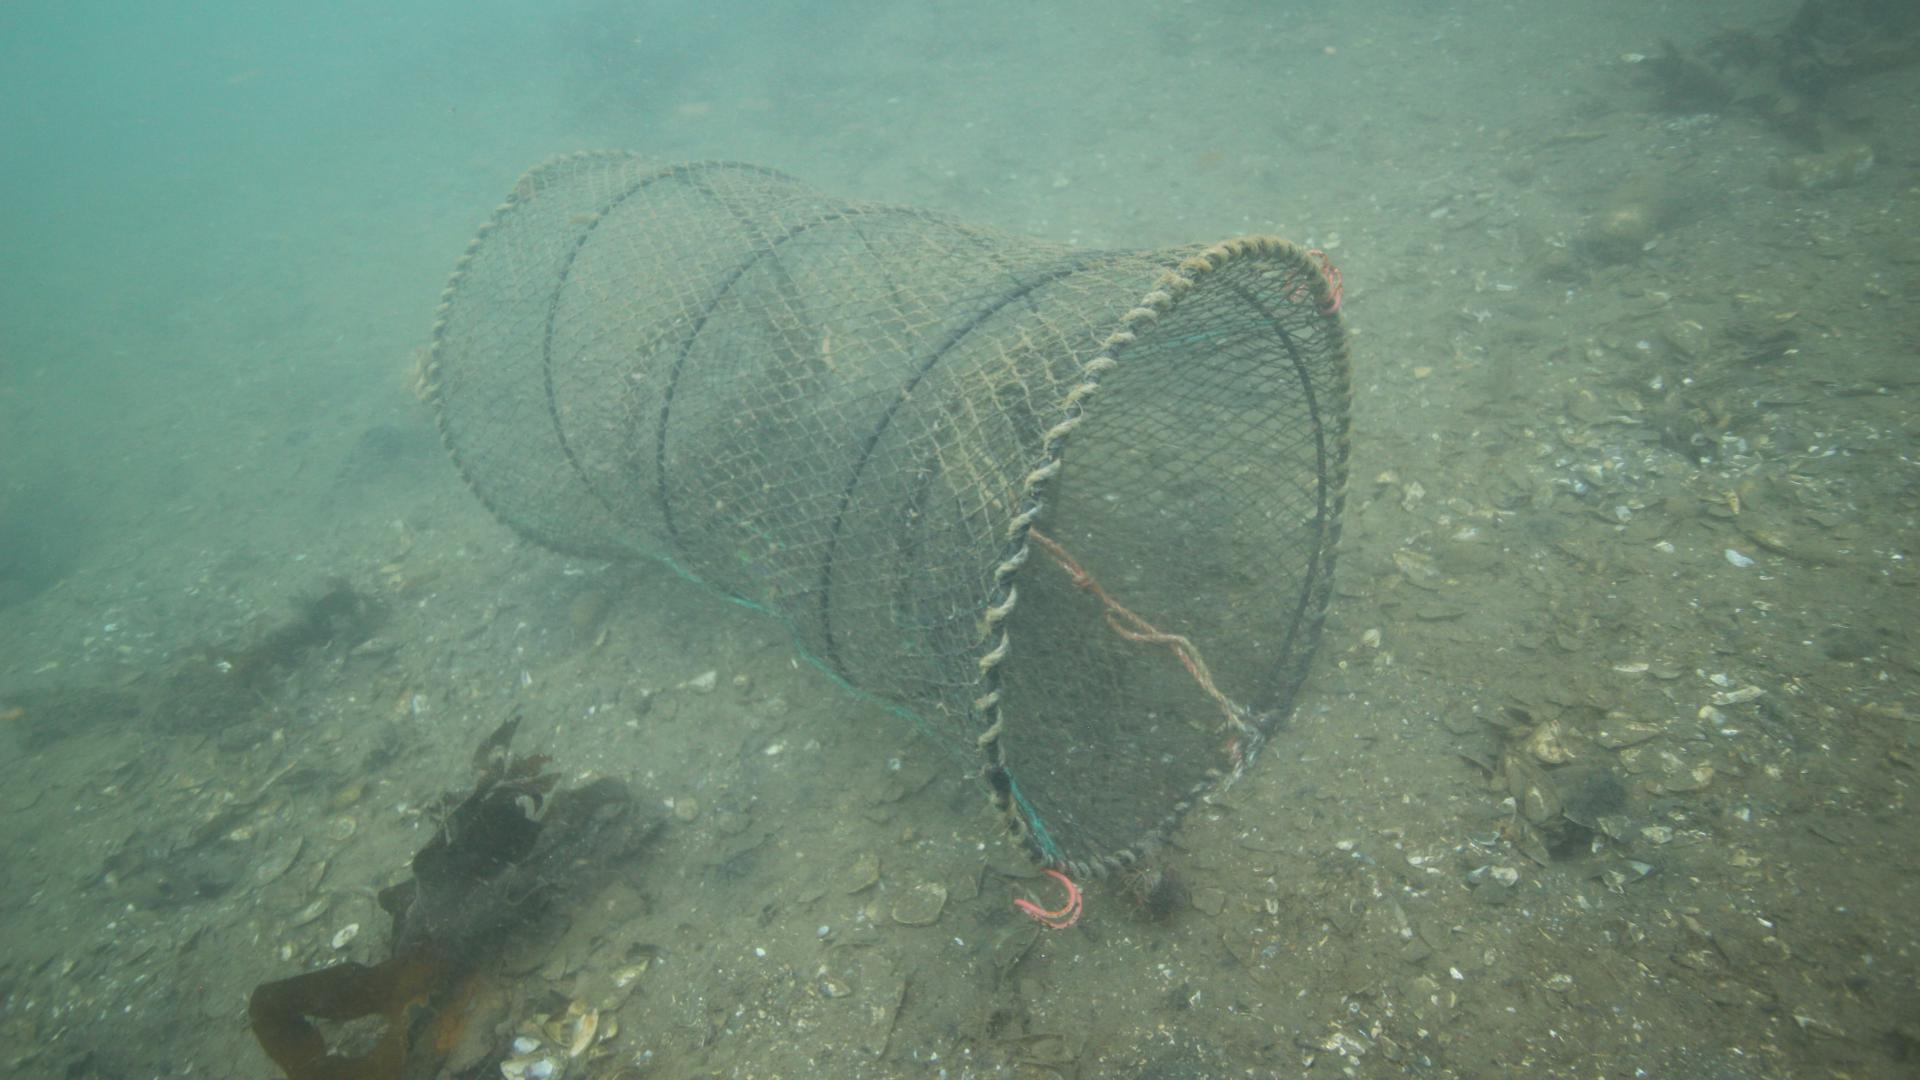spring fish trap: (426, 146, 1352, 895)
